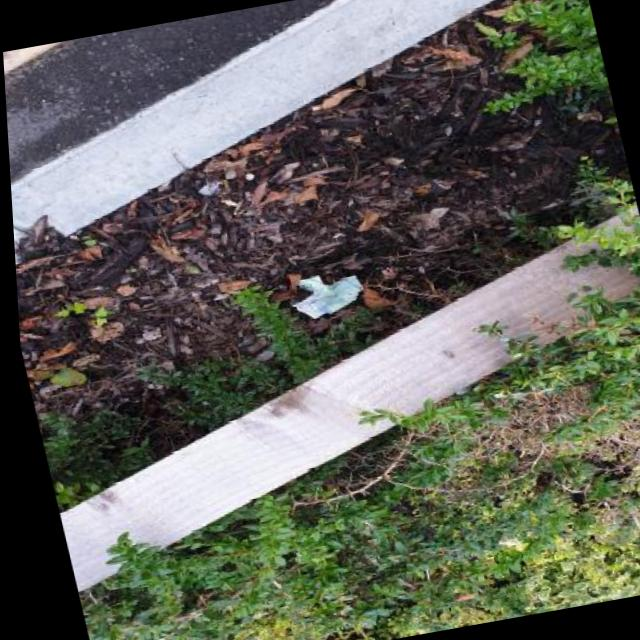paper: (285, 268, 369, 322)
